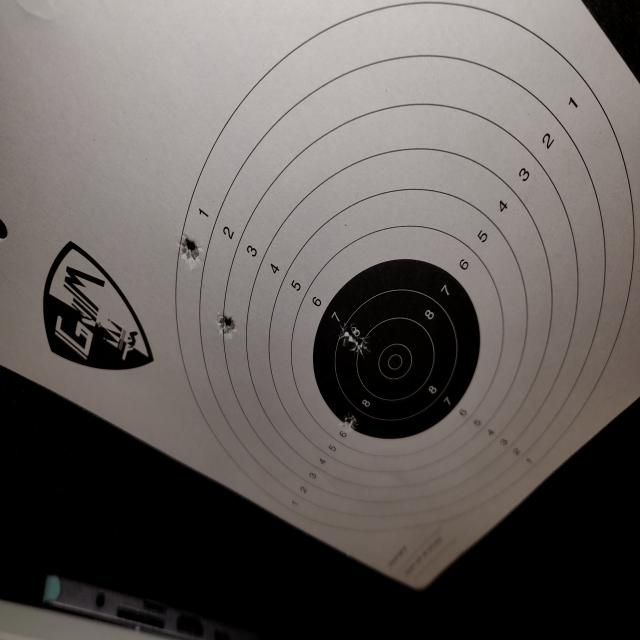1: (180, 230, 203, 270)
3: (216, 310, 236, 338)
7: (341, 412, 358, 432)
8: (341, 323, 354, 350)
9: (352, 335, 370, 356)
Target: (175, 0, 633, 534)
black_contour: (312, 259, 480, 440)
